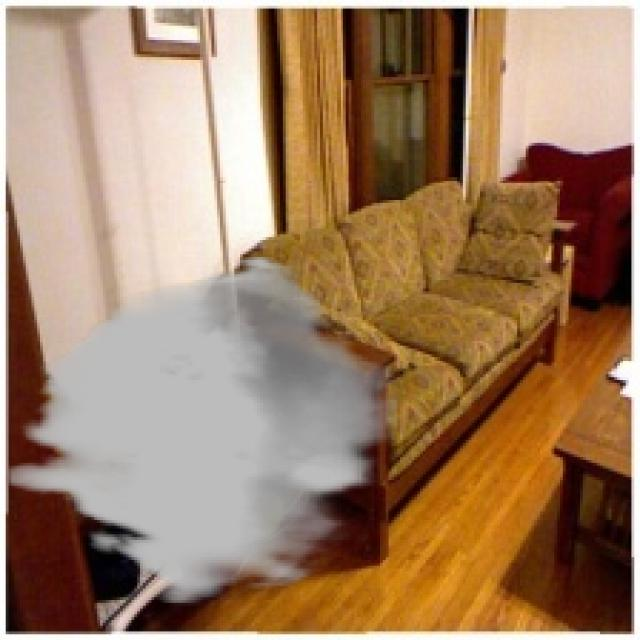smoke: (9, 254, 397, 606)
